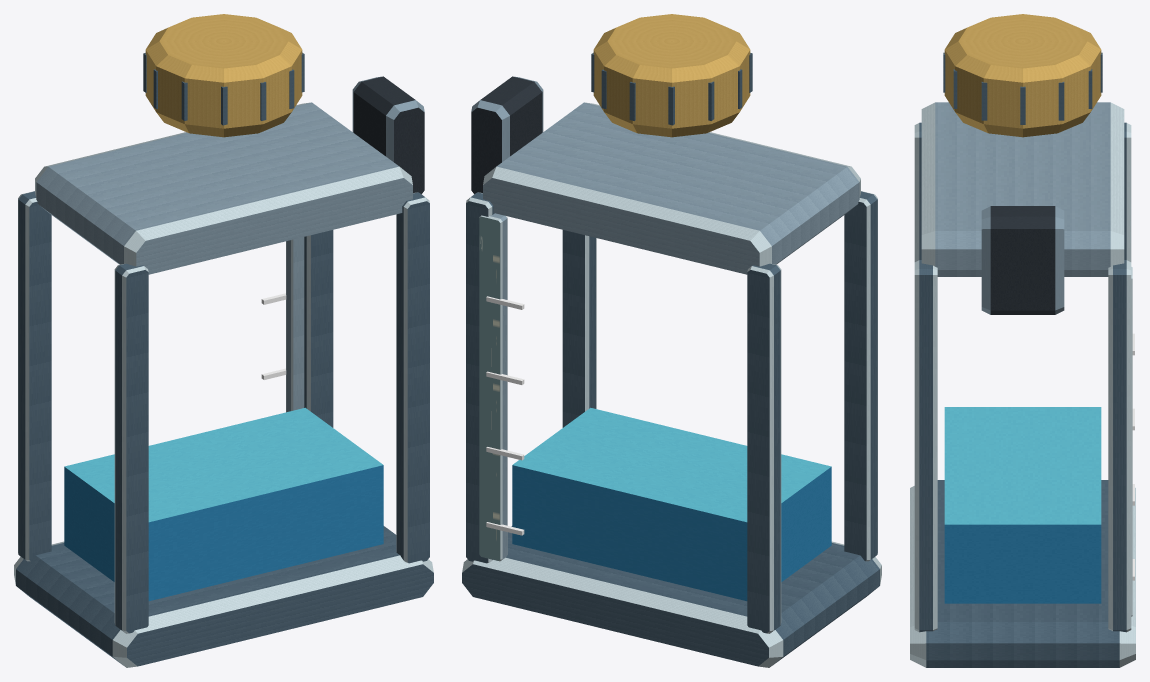
Rendered from water_flask_1.obj.
3 views of the same model, side by side, from view 1: azimuth 30°, elevation 25°; view 2: azimuth 150°, elevation 25°; view 3: azimuth 270°, elevation 25° (orthographic).
Parts seen in each view (by area): view 1: water_flask_1; view 2: water_flask_1; view 3: water_flask_1.
Part boxes in pixels (left/top/right/bottom): water_flask_1: left=14, top=14, right=433, bottom=667; water_flask_1: left=462, top=14, right=881, bottom=667; water_flask_1: left=910, top=14, right=1135, bottom=667.
Bounding box in the file's own units: 0.5375 × 0.8312 × 0.3062.
